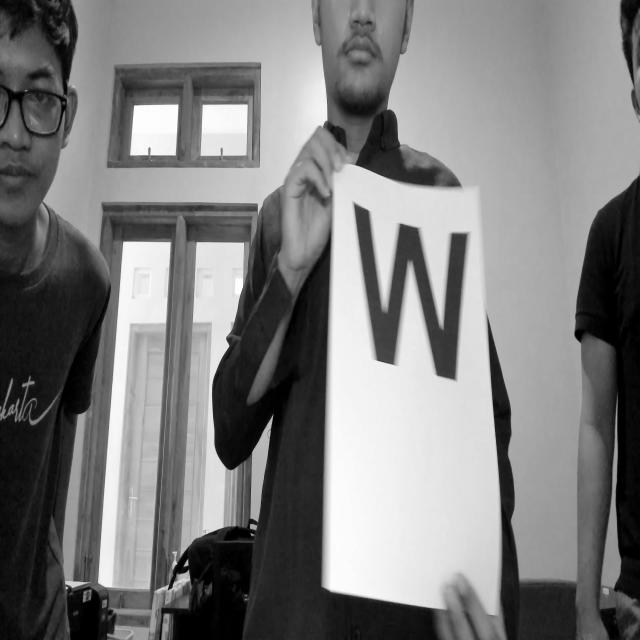w: (347, 188, 481, 396)
